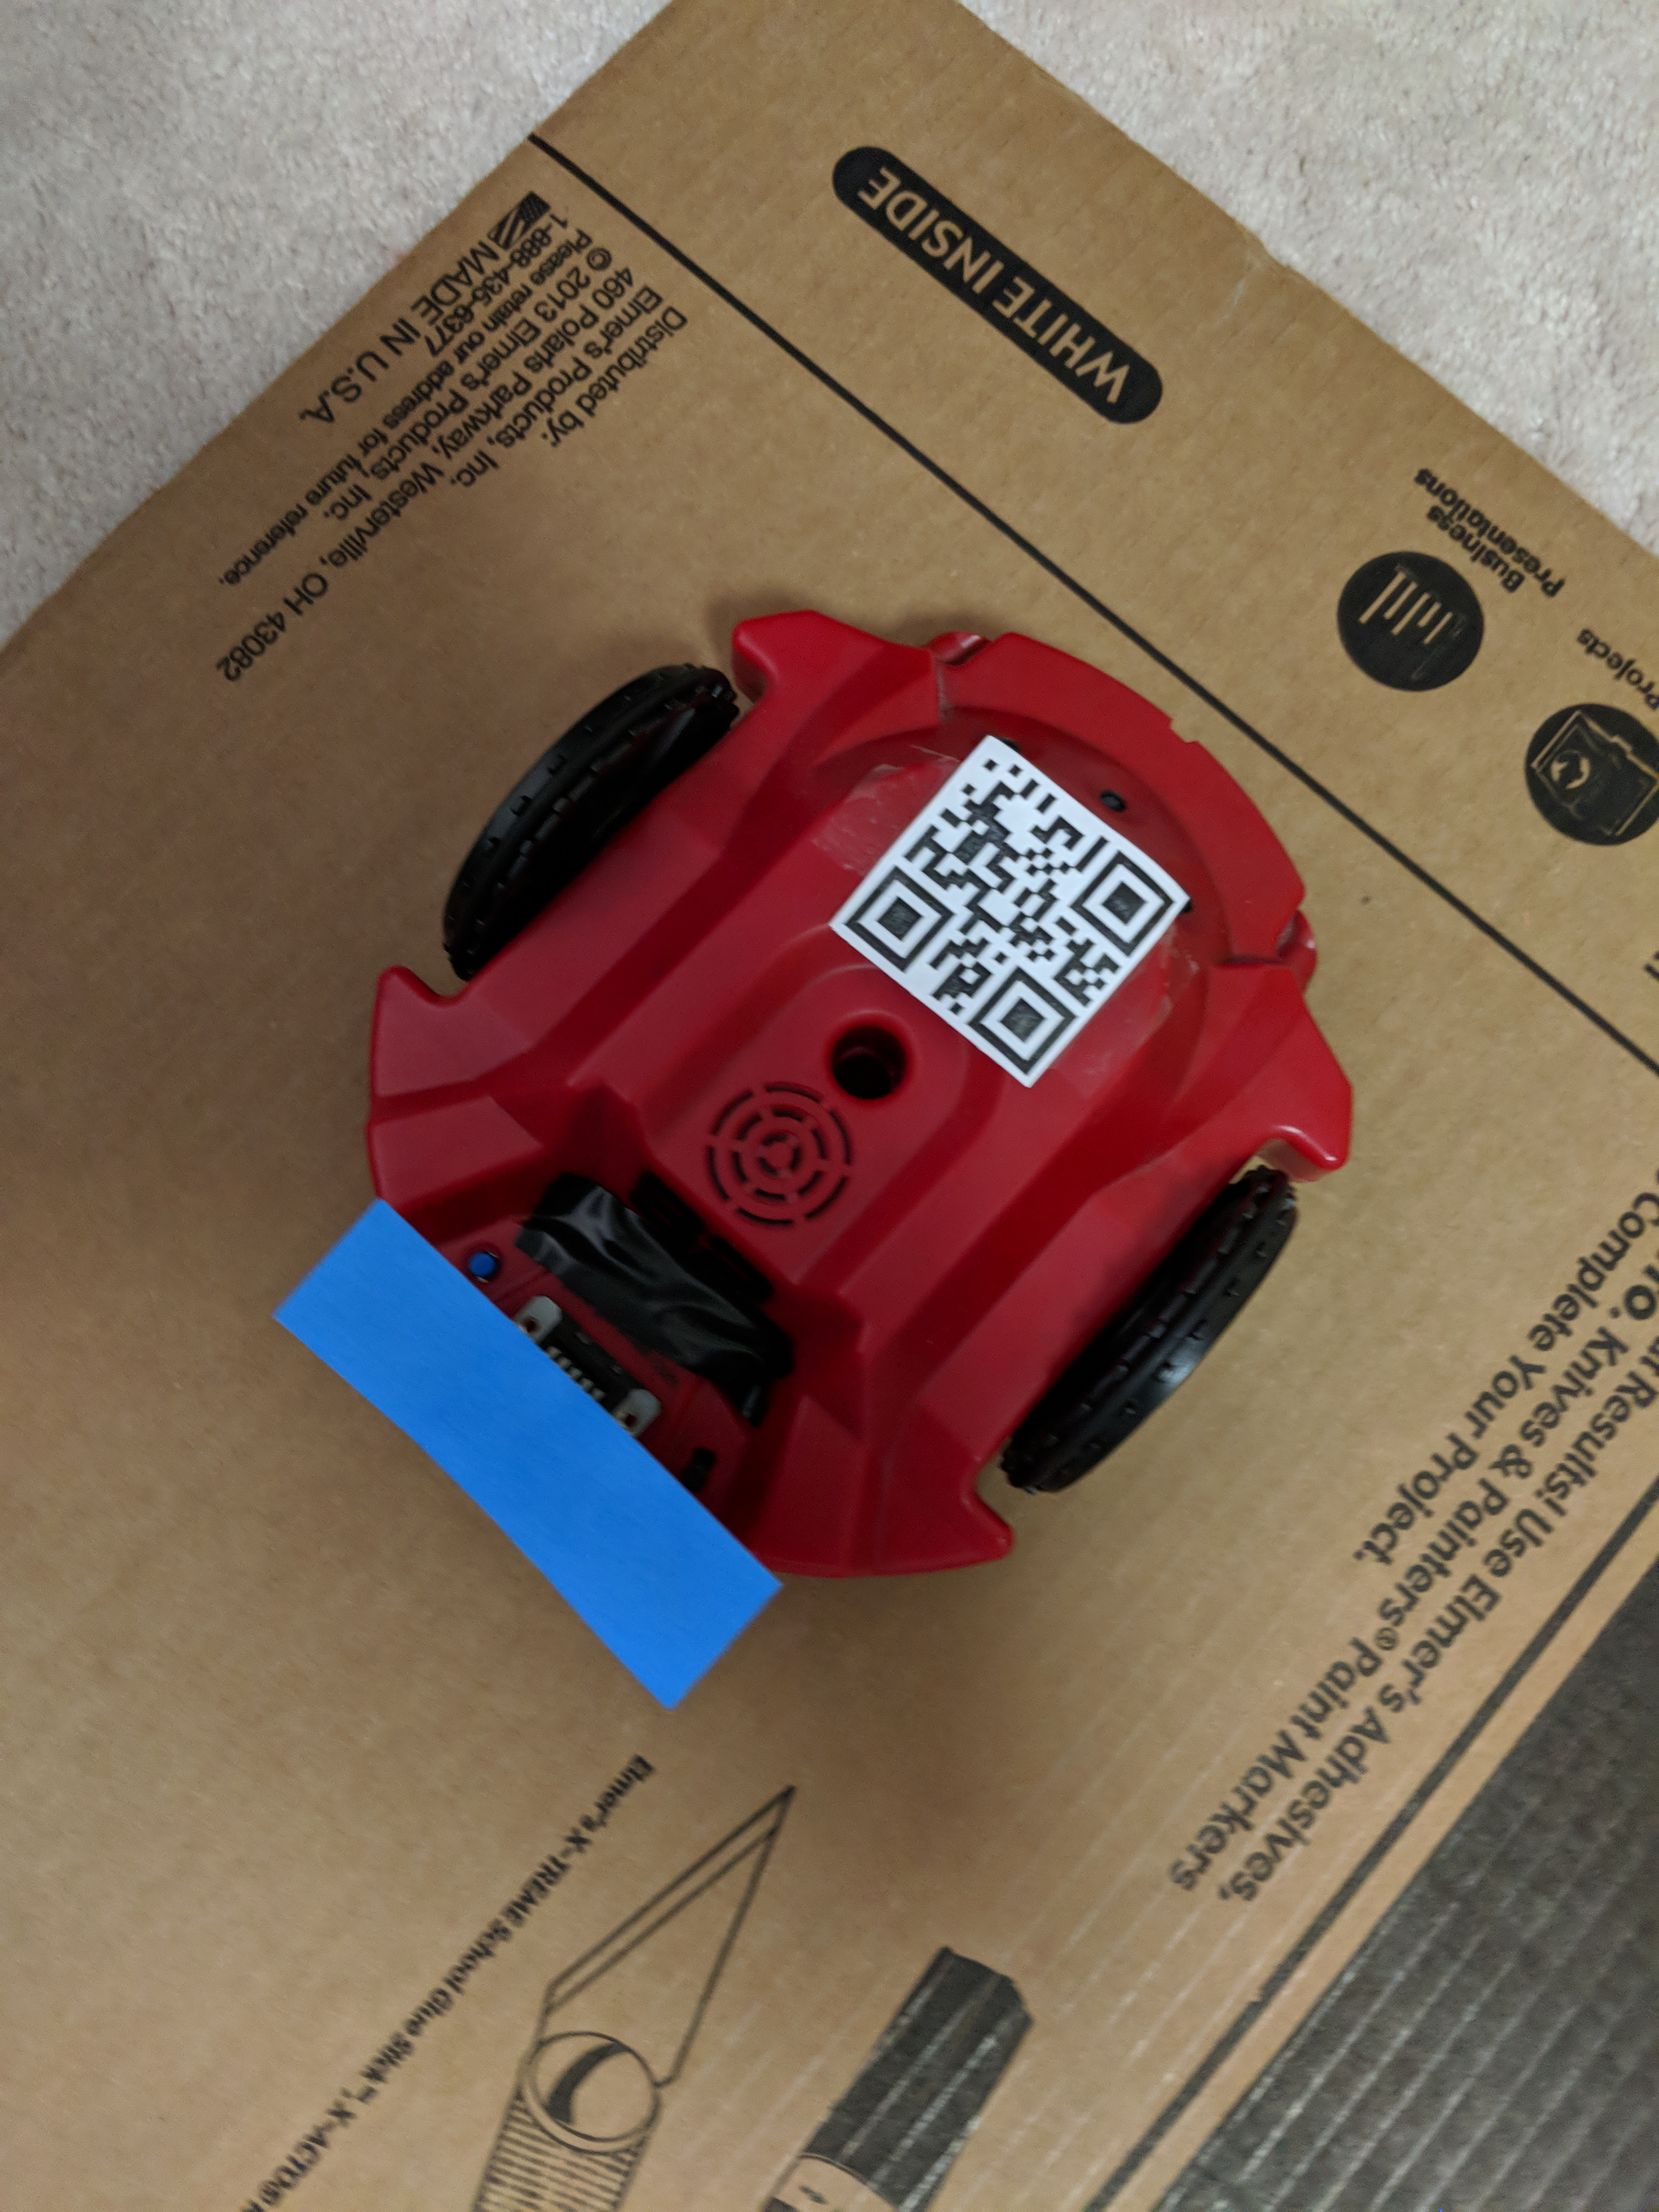chassis: (308, 601, 1385, 1601)
qr: (824, 711, 1199, 1078)
